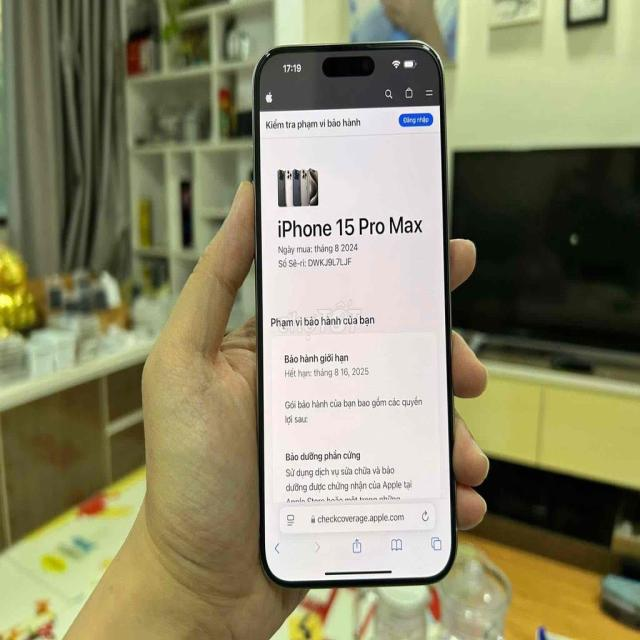gen_15: (246, 37, 462, 593)
